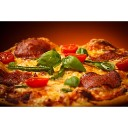pepperonipizza: (1, 37, 128, 106)
